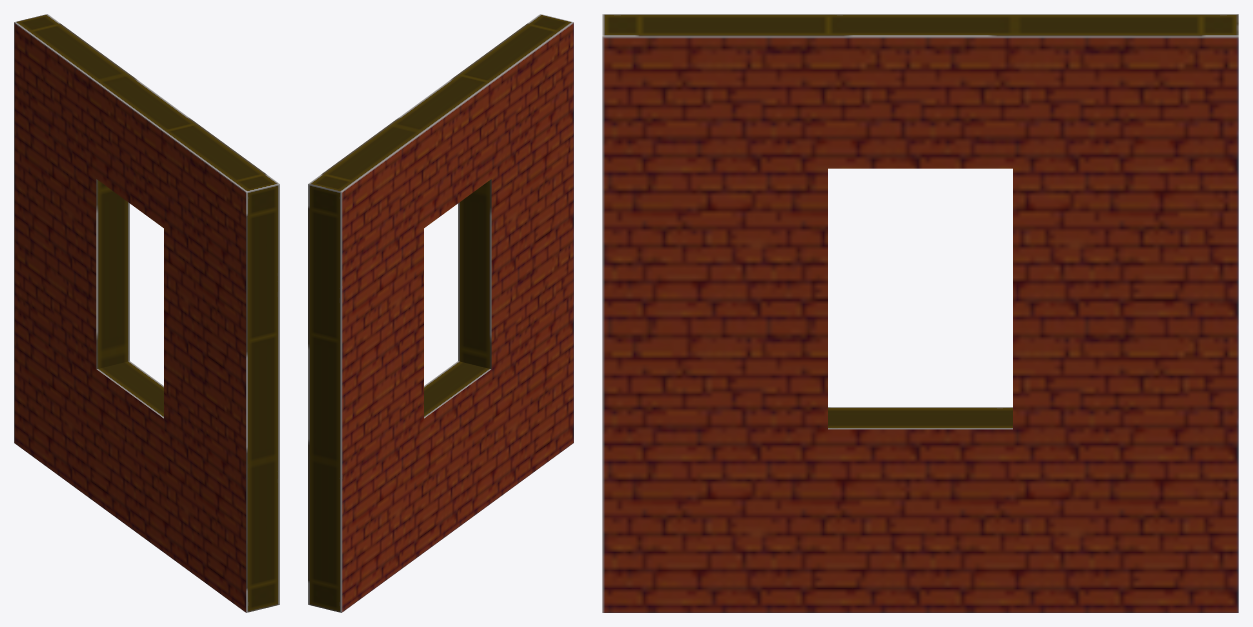
The model's file is Wall_Window_13.fbx.
3 renders of one model, left to right at view 1: azimuth 30°, elevation 25°; view 2: azimuth 150°, elevation 25°; view 3: azimuth 270°, elevation 25°, orthographic. The views are drawn at different scales.
Visible parts, largest first — view 1: Wall_Window_13; view 2: Wall_Window_13; view 3: Wall_Window_13.
Boxes of the visible parts, x1,y1,x2,y2 form: Wall_Window_13: (14, 14, 279, 612); Wall_Window_13: (308, 14, 573, 612); Wall_Window_13: (602, 14, 1238, 612).
Bounding box in the file's own units: 50 × 600 × 600.
